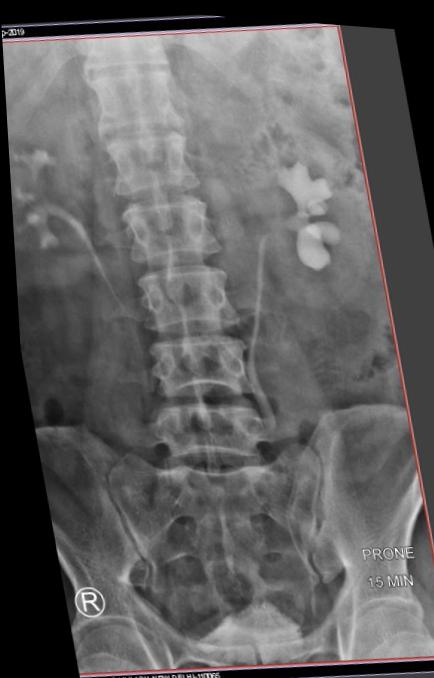bladder: (149, 553, 318, 661)
left kidney: (214, 95, 383, 315)
right kidney: (5, 113, 113, 304)
vertebrae: (98, 121, 202, 199)
